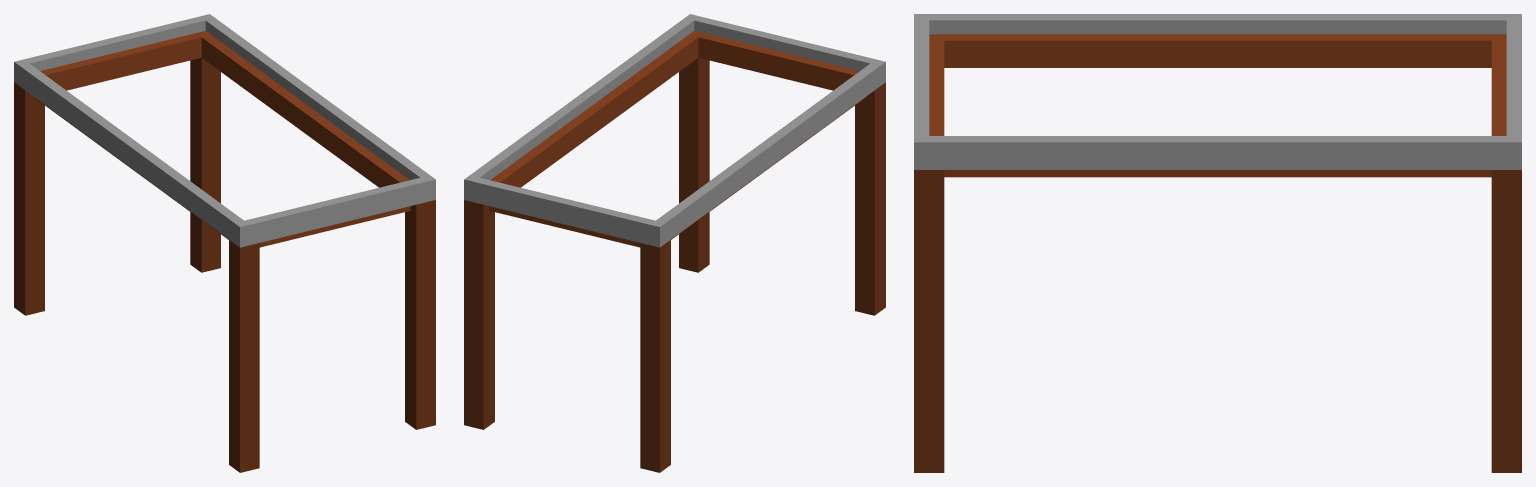
The model's file is Table_for_texturing-1.obj.
3 views of the same model, side by side, from view 1: azimuth 30°, elevation 25°; view 2: azimuth 150°, elevation 25°; view 3: azimuth 270°, elevation 25° (orthographic). The views are drawn at different scales.
Size of the model in its own units: 2 by 2.4 by 4.
Materials: 1 (1 with a texture image).
